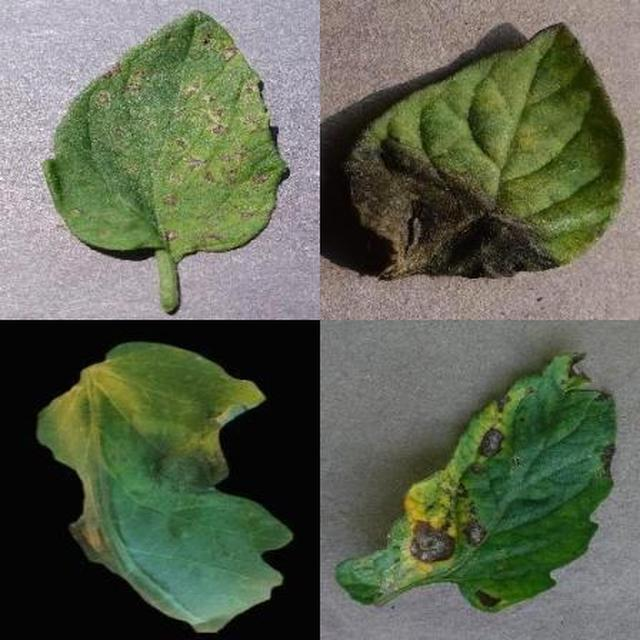Septoria Leaf: (234, 191, 640, 640)
